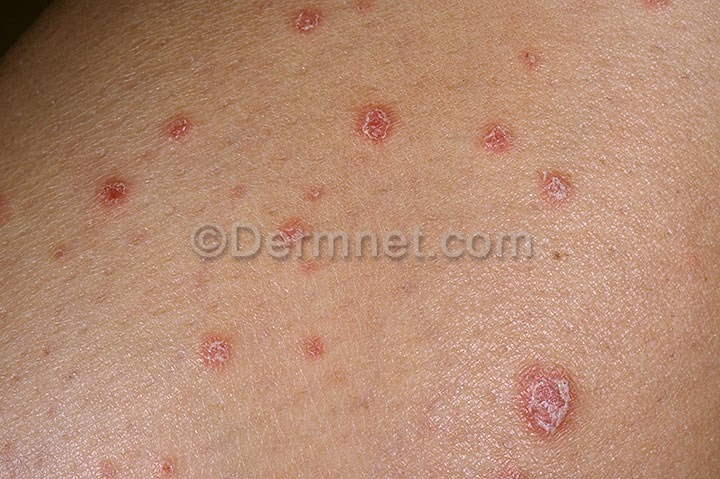Psoriasis: (477, 346, 612, 454), (185, 322, 352, 401), (471, 118, 589, 220), (250, 179, 341, 277), (328, 93, 416, 161), (62, 155, 151, 222), (272, 1, 335, 42), (154, 113, 211, 153)
